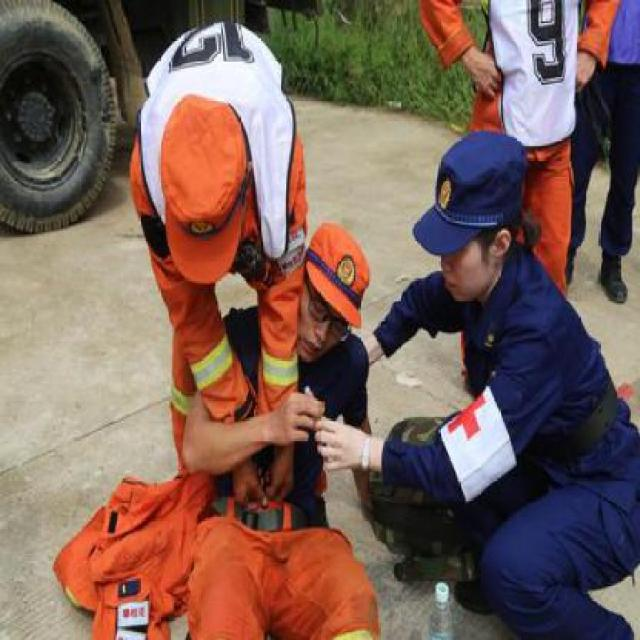fall: (110, 180, 396, 638)
